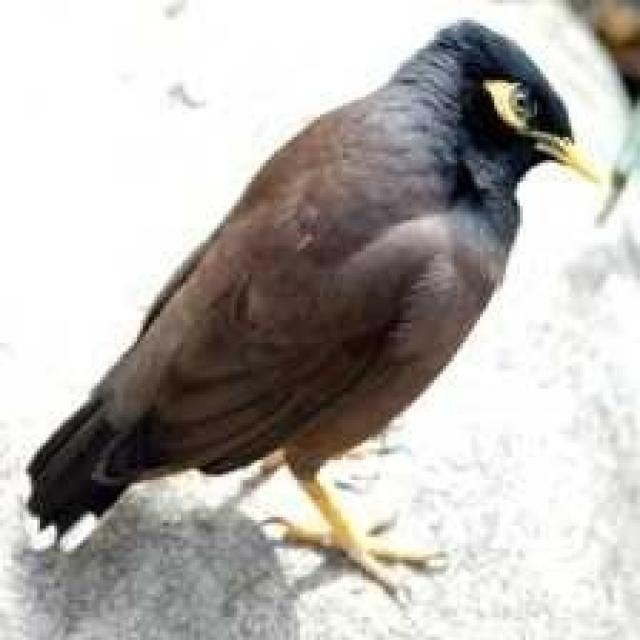bird: (16, 4, 616, 611)
